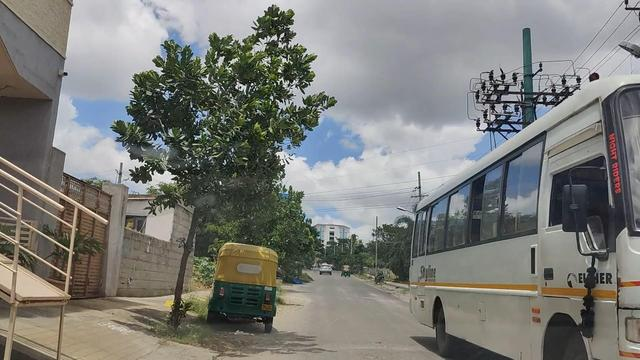HMV: (396, 71, 640, 360)
